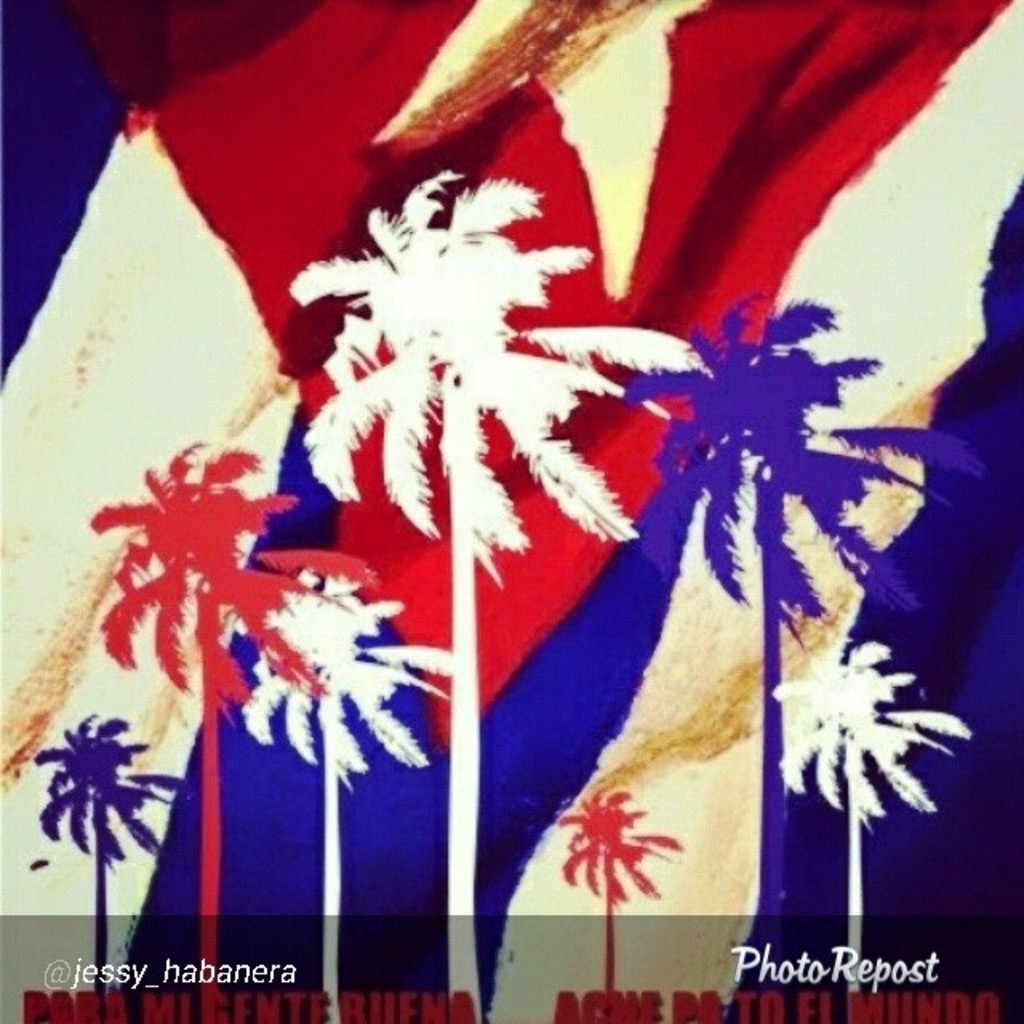Tree: (302, 167, 716, 1022), (630, 305, 920, 1022), (89, 428, 318, 1022), (824, 350, 1022, 1022), (236, 548, 449, 1022), (32, 710, 201, 1022)
